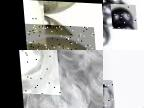ironball: (23, 23, 96, 50), (16, 50, 58, 94), (22, 0, 44, 44), (109, 3, 135, 29), (103, 22, 112, 50)
